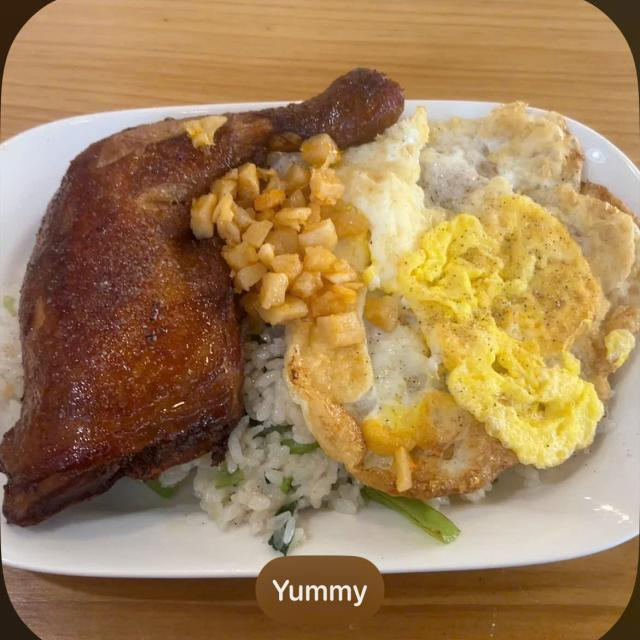ga_chien: (26, 119, 254, 552)
trung_chien: (368, 141, 636, 442)
